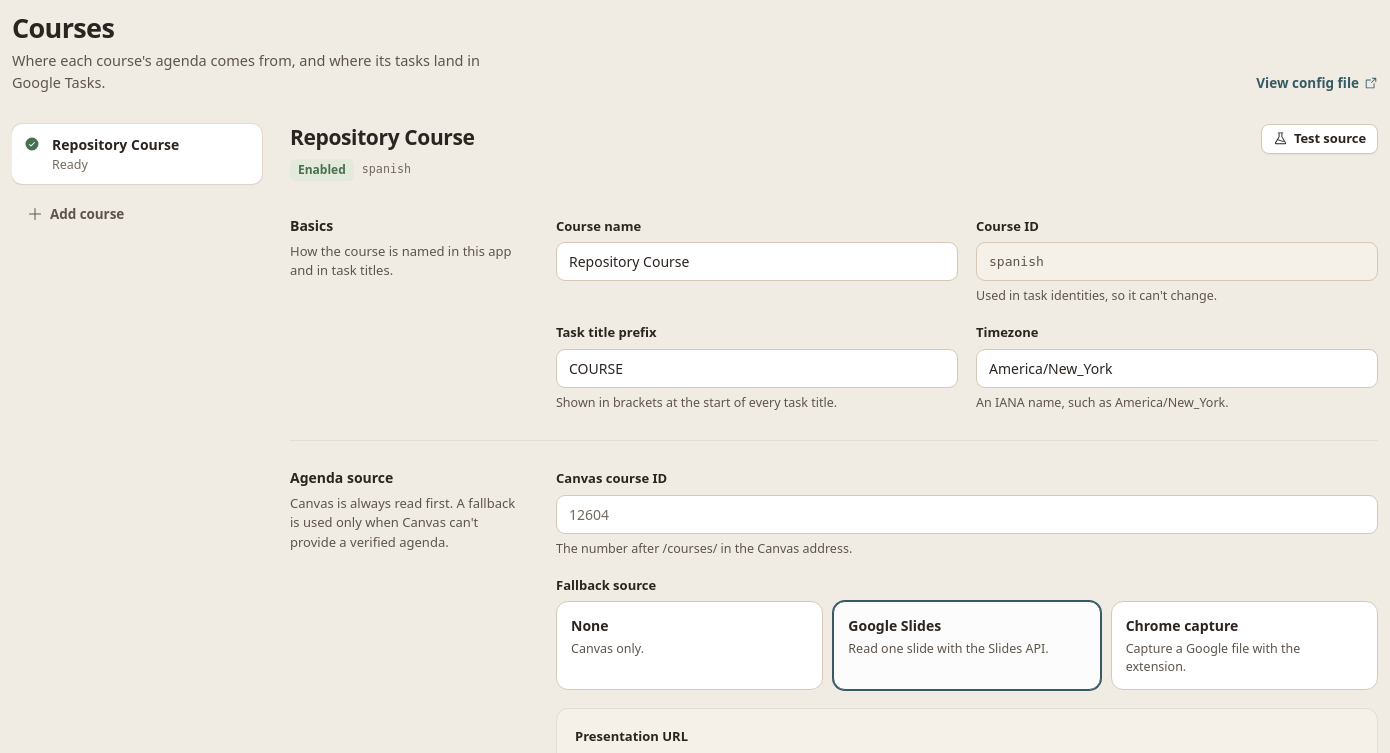
Scenario: operational pages › allows a Canvas course to have no fallback acquisition
Click the radio button labelled "None Canvas only." at coordinates (590, 626), box [556,601,823,690]
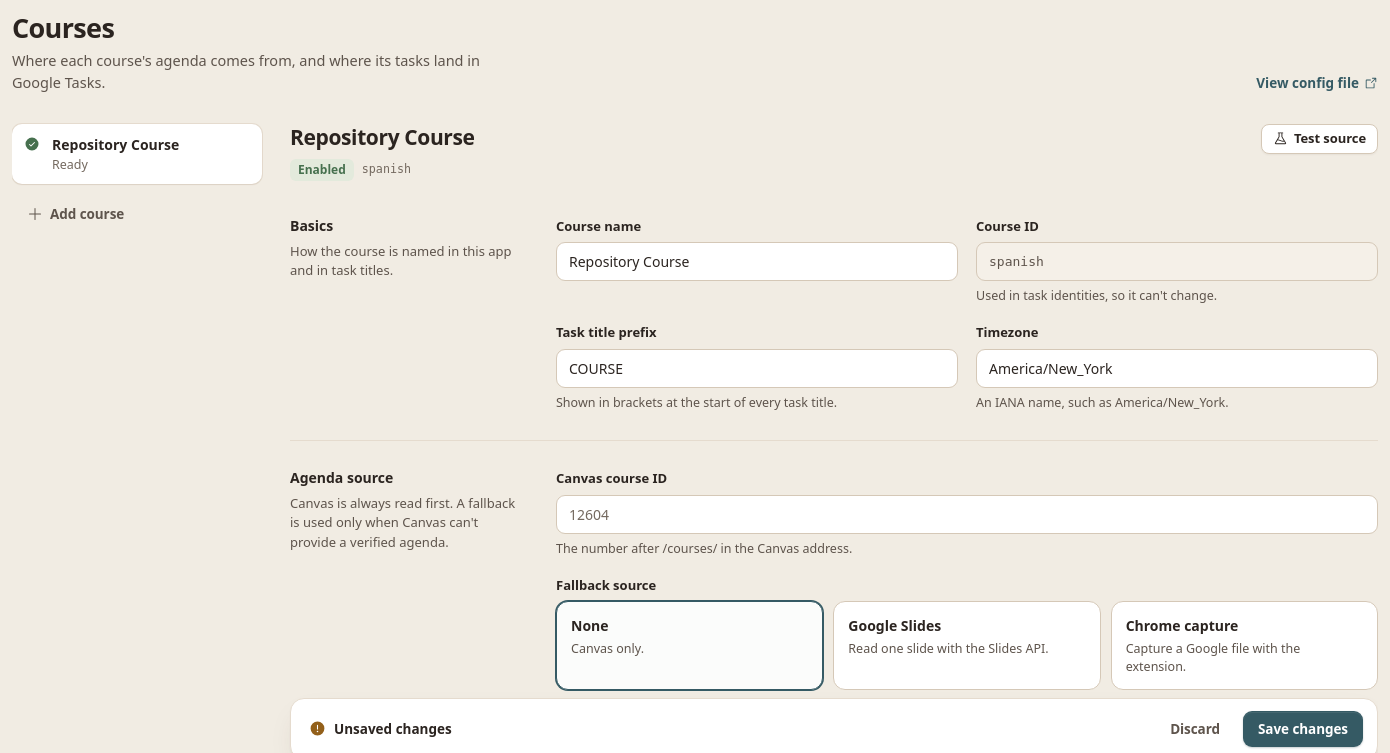
Expected: the radio button labelled "None Canvas only." is checked, [556,601,823,690]
Expected: the text labelled "Presentation URL" is gone
